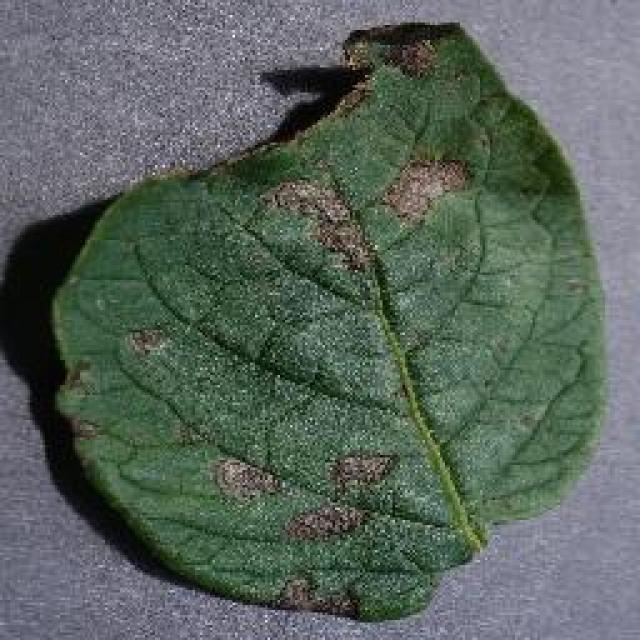early_blight: (42, 17, 612, 625)
